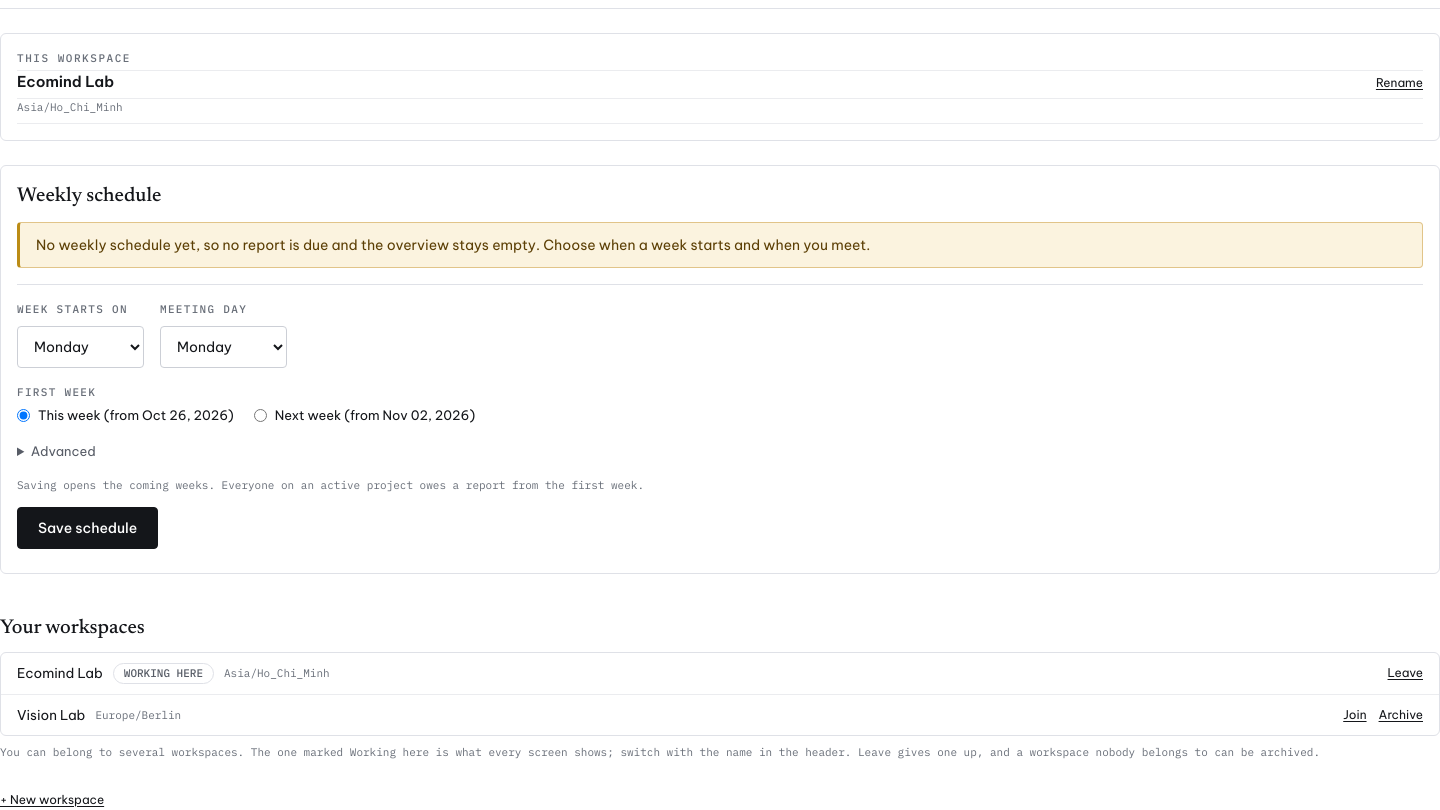
Test: creating a workspace is folded away until asked for
(page scrolled)
Expected: the list with test id "workspace-list" is shown, [0,652,1439,736]
Click the button "+ New workspace" at (52, 800), box [0,792,104,808]
(page scrolled)
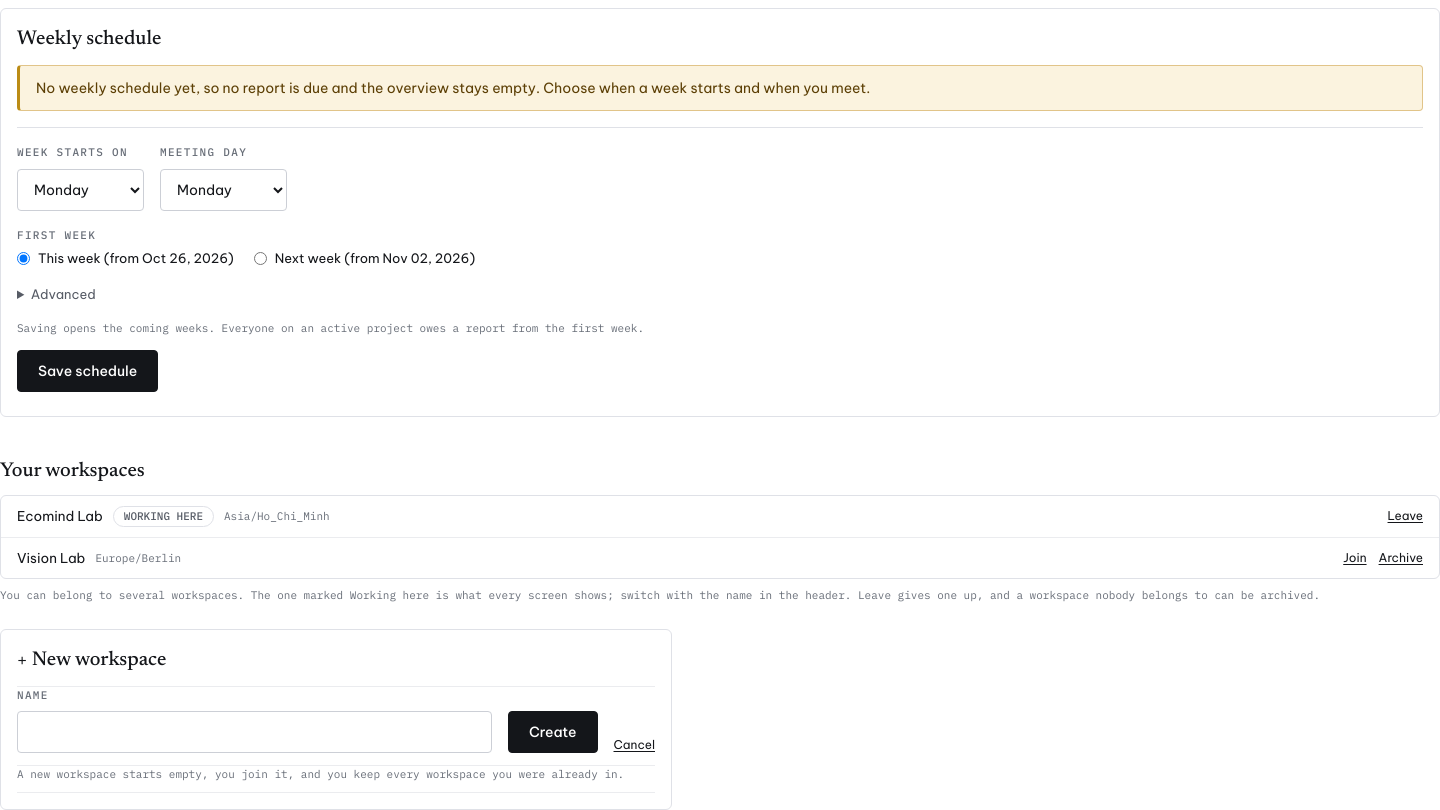
Expected: the field labelled "Name" is shown, [17,711,492,753]
